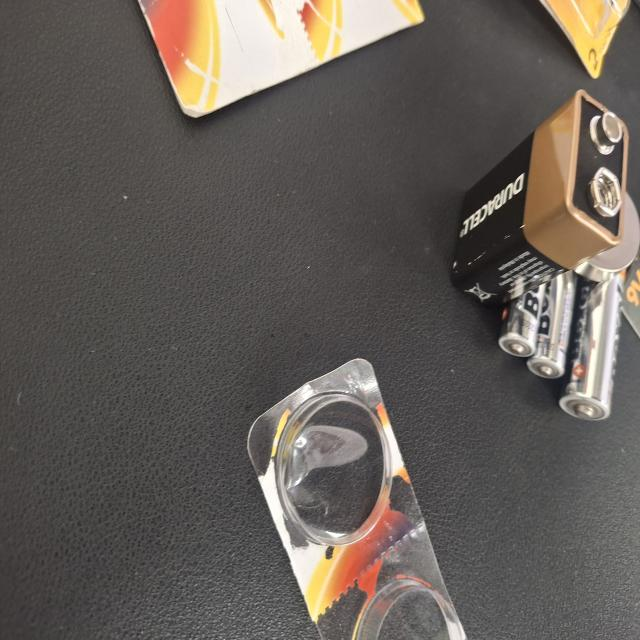9V: (68, 15, 230, 251)
AA: (204, 21, 315, 108)
AAA: (204, 86, 284, 151), (214, 127, 268, 189)
COIN: (146, 0, 211, 87)
